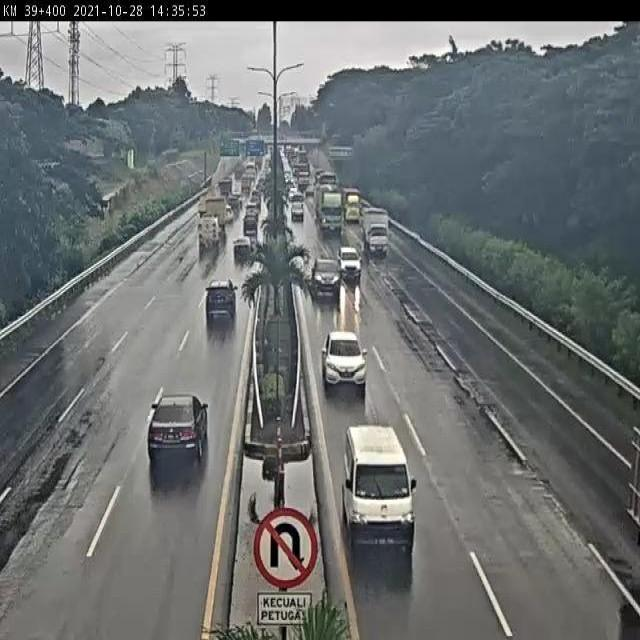big truck: (315, 188, 349, 244)
car: (335, 416, 422, 556), (142, 389, 214, 475), (318, 322, 371, 390), (202, 276, 238, 328), (312, 250, 342, 306), (339, 232, 364, 284), (226, 230, 257, 266), (288, 200, 310, 229)
small truck: (365, 205, 390, 263), (196, 213, 223, 255), (345, 182, 364, 226)
